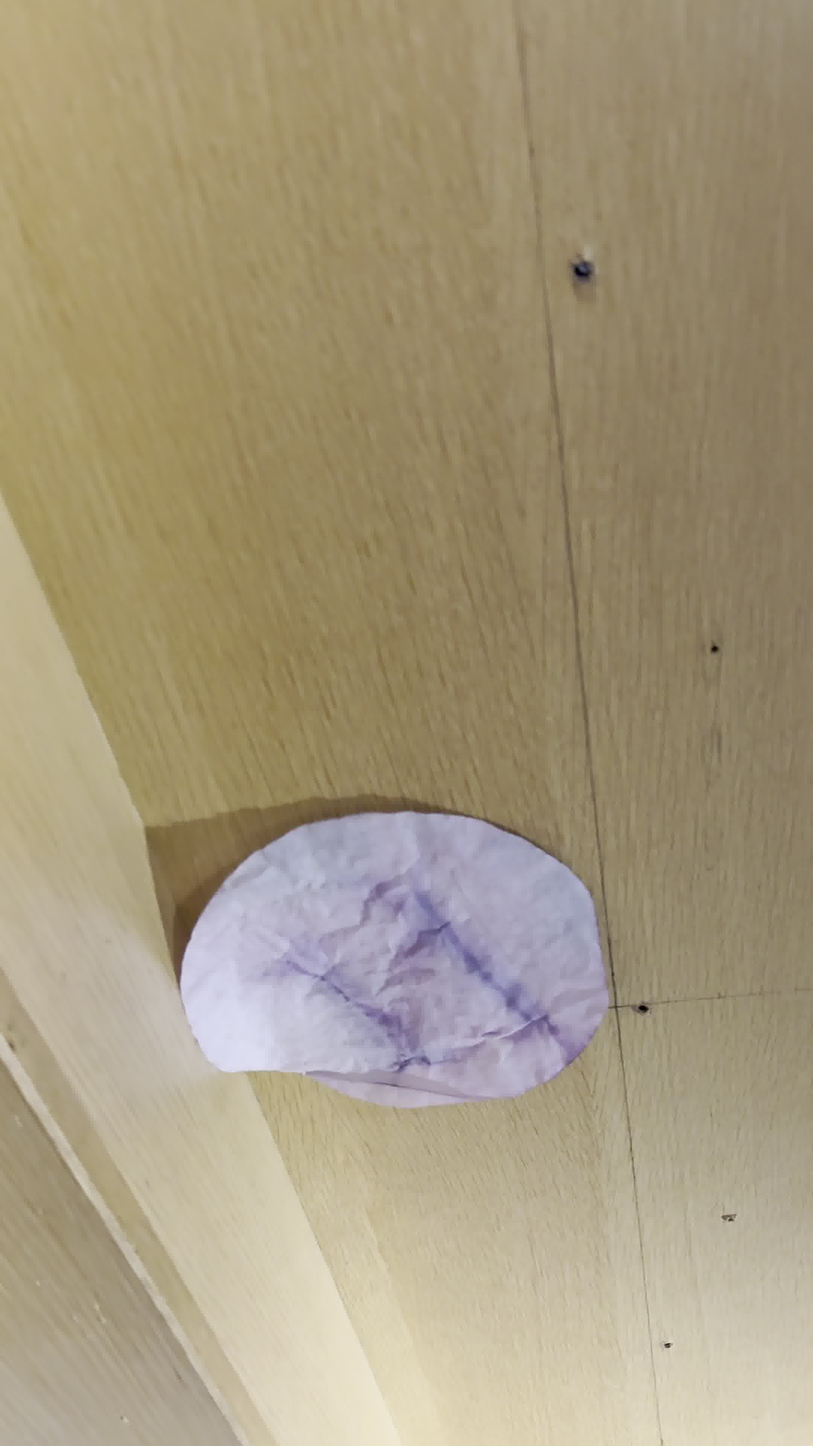Target: (180, 812, 615, 1105)
